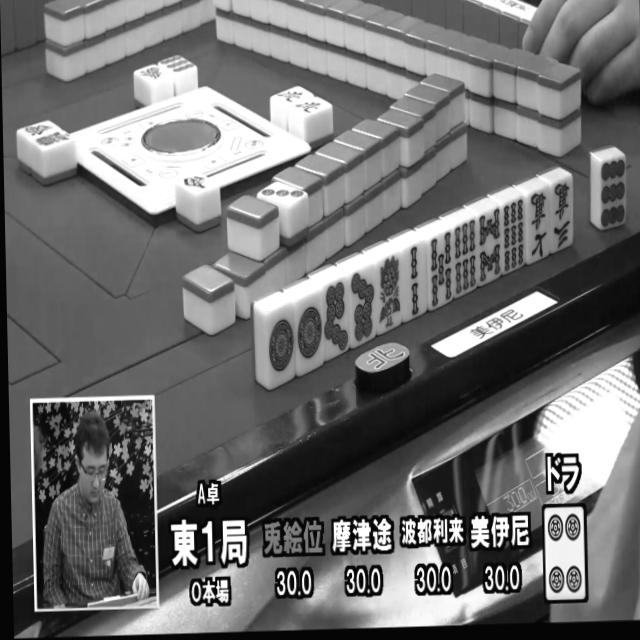m3: (547, 179, 573, 252)
m7: (525, 189, 553, 263)
s1: (375, 257, 405, 334)
s2: (403, 243, 430, 320)
s5: (425, 232, 456, 311)
s6: (451, 218, 480, 299)
s8: (476, 209, 504, 285)
s9: (501, 197, 530, 275)
t1: (261, 307, 300, 386), (293, 296, 324, 373)
t3: (262, 179, 306, 205), (182, 167, 213, 200)
t4: (545, 502, 589, 599)
t7: (322, 278, 354, 357), (346, 269, 379, 345)
t9: (593, 153, 628, 231)
